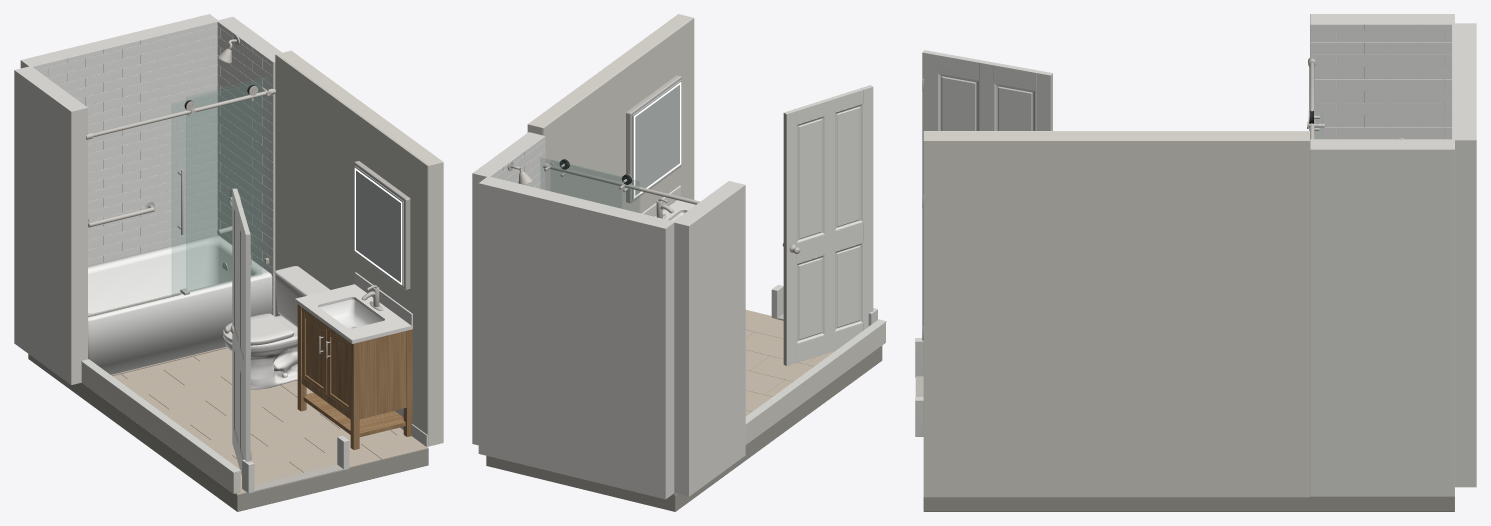
The model's file is west-seattle-bathroom-renovation-three-bathrooms-guest.glb.
The picture shows the model from 3 angles, left to right: view 1: azimuth 30°, elevation 25°; view 2: azimuth 150°, elevation 25°; view 3: azimuth 270°, elevation 25°; orthographic projection. The views are drawn at different scales.
Parts seen in each view (by area): view 1: Subway tub surround · field tile, Vanity and WC wall · wall · trowelled face, Tub left return · wall core, White alcove tub, Room floor · tile, Tub slider · moving glass, Tub screen · stationary glass, Tub valve wall · field tile, Vanity and WC wall · wall · wall core, Room floor · foundation, Vanity mirror · silvered face, Vanity · side panel (+24 smaller); view 2: Subway tub surround · wall core, Tub left return · wall core, Vanity and WC wall · wall · trowelled face, Entry door · stile, Room floor · tile, Vanity mirror · silvered face, Entry door · molded panel.003, Entry door · molded panel.001, Room floor · foundation, Entry door · rail, Sectioned wall · low edge, Tub valve wall · wall core (+12 smaller); view 3: Vanity and WC wall · wall · wall core, Tub valve wall · wall core, Tub left return · field tile, Subway tub surround · wall core, Room floor · foundation, Entry door · stile, Tub left return · wall core, Entry door · molded panel.001, Entry door · molded panel.003, Entry door · rail, Entry jamb · cutaway.
Part boxes in pixels (x1,y1,x2,y2): Subway tub surround · field tile: (32, 21, 217, 265); Vanity and WC wall · wall · trowelled face: (275, 54, 428, 446); Tub left return · wall core: (14, 66, 87, 384); White alcove tub: (88, 235, 272, 374); Room floor · tile: (112, 348, 428, 494); Tub slider · moving glass: (172, 82, 261, 295); Tub screen · stationary glass: (186, 77, 268, 290); Tub valve wall · field tile: (217, 22, 273, 315); Vanity and WC wall · wall · wall core: (277, 50, 443, 446); Room floor · foundation: (28, 354, 428, 511); Vanity mirror · silvered face: (354, 166, 403, 286); Vanity · side panel: (359, 331, 406, 418); Subway tub surround · wall core: (478, 176, 674, 499); Tub left return · wall core: (674, 181, 745, 496); Vanity and WC wall · wall · trowelled face: (542, 17, 694, 213); Entry door · stile: (783, 85, 873, 365); Room floor · tile: (675, 310, 835, 494); Vanity mirror · silvered face: (632, 80, 681, 199); Entry door · molded panel.003: (796, 115, 825, 243); Entry door · molded panel.001: (834, 103, 863, 231); Room floor · foundation: (486, 346, 882, 511); Entry door · rail: (794, 88, 863, 362); Sectioned wall · low edge: (745, 323, 885, 444); Tub valve wall · wall core: (472, 132, 544, 445); Vanity and WC wall · wall · wall core: (923, 131, 1309, 497); Tub valve wall · wall core: (1310, 139, 1454, 496); Tub left return · field tile: (1310, 24, 1451, 139); Subway tub surround · wall core: (1452, 23, 1476, 487); Room floor · foundation: (923, 496, 1454, 511); Entry door · stile: (922, 50, 1052, 340); Tub left return · wall core: (1310, 14, 1454, 138); Entry door · molded panel.001: (937, 72, 979, 130); Entry door · molded panel.003: (993, 82, 1036, 130); Entry door · rail: (937, 52, 1038, 89); Entry jamb · cutaway: (915, 338, 923, 436).
Size of the model in its own units: 1.83 by 2.38 by 3.18.
19 materials, 1 textured.
